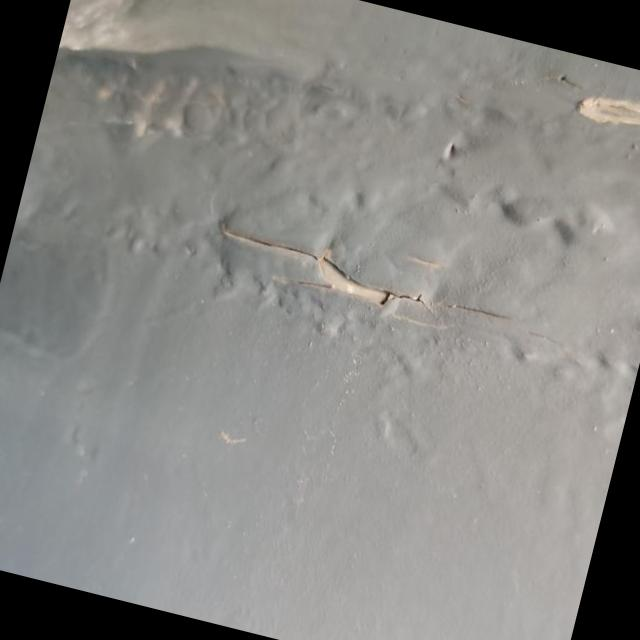Crack: (216, 223, 441, 326)
